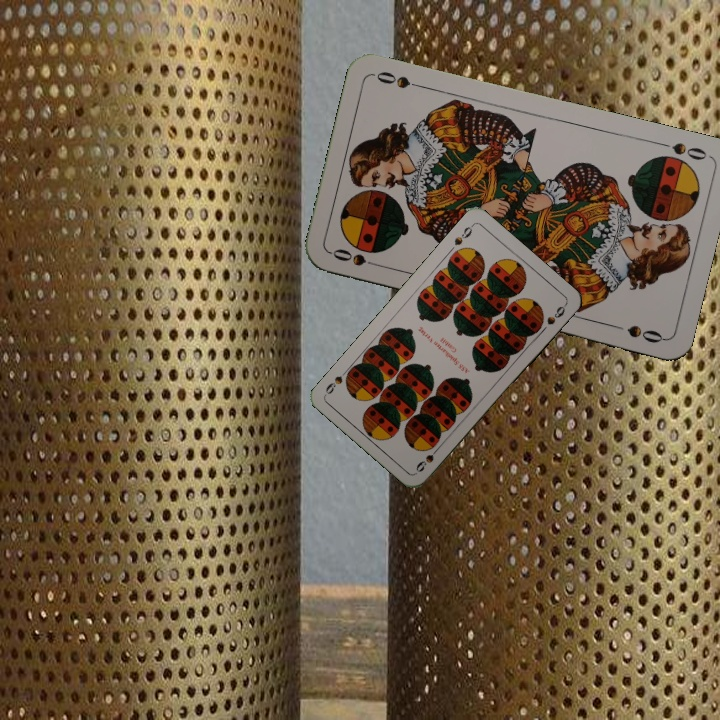S9: (412, 441, 443, 475), (450, 220, 476, 248)
SO: (328, 244, 386, 271), (653, 137, 710, 163)
